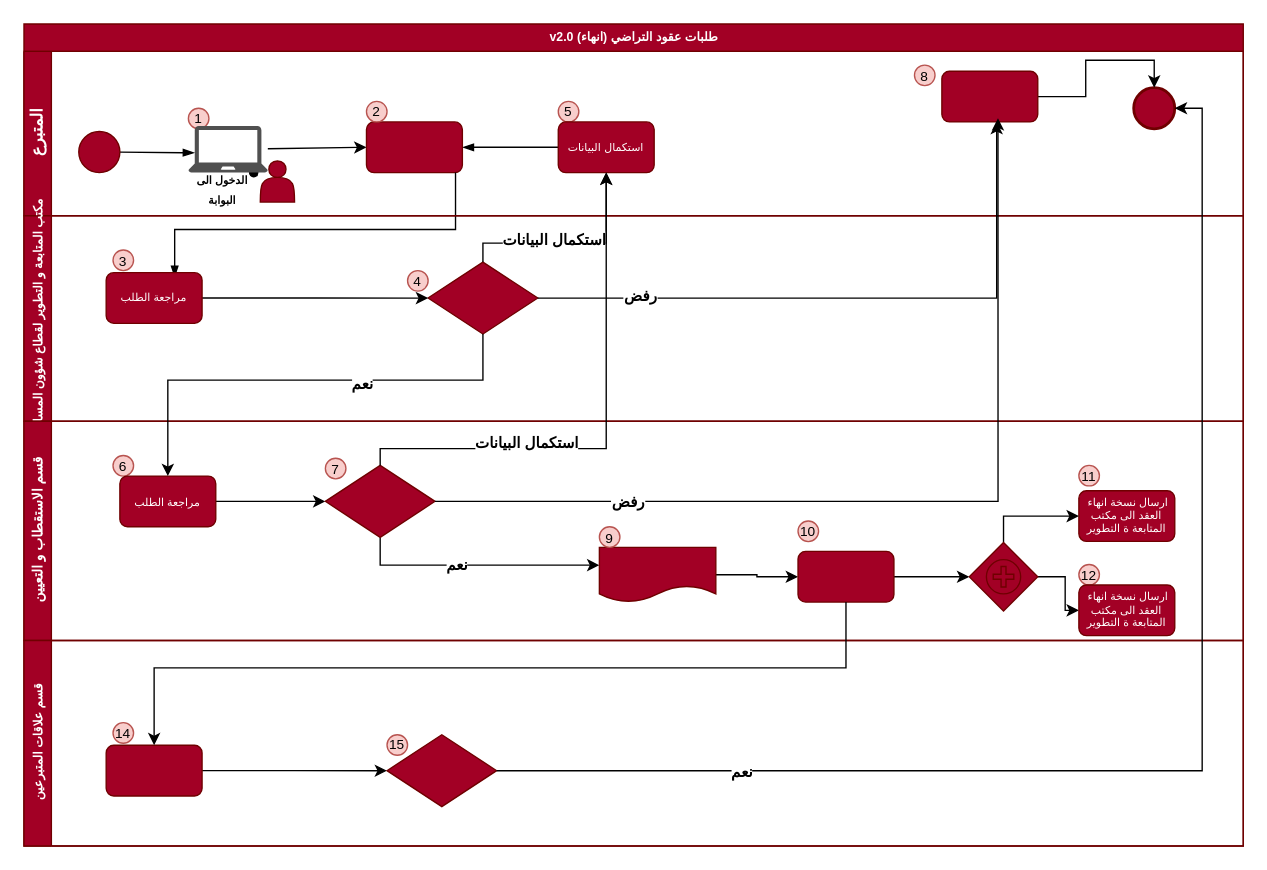
Image size: 1267x870. Some labels were removed from this diagram. The centre of each missing label's shape, as x and y in pixels:
"احتساب نهاية الخدمة و ارساله اشعار الى المتبرع و و لالغاء الاقامة" goes at point (845, 576).
"ارسال رسالة اعتذار للمتبرع" goes at point (989, 96).
"اغلاق" goes at point (1153, 107).
"بداية" goes at point (98, 151).
"تجهيز نموذج انهاء عقد التراضي" goes at point (657, 574).
"تعبئة و نموذج طلب عقد تراضي" goes at point (413, 147).
"تم دفع نهاية الخدمة؟" goes at point (441, 770).
"متابعة دفع نهاية الخدمة للمرشح من المتبرع" goes at point (153, 770).
"موافقة" goes at point (482, 297).
"موافقة؟" goes at point (379, 500).
